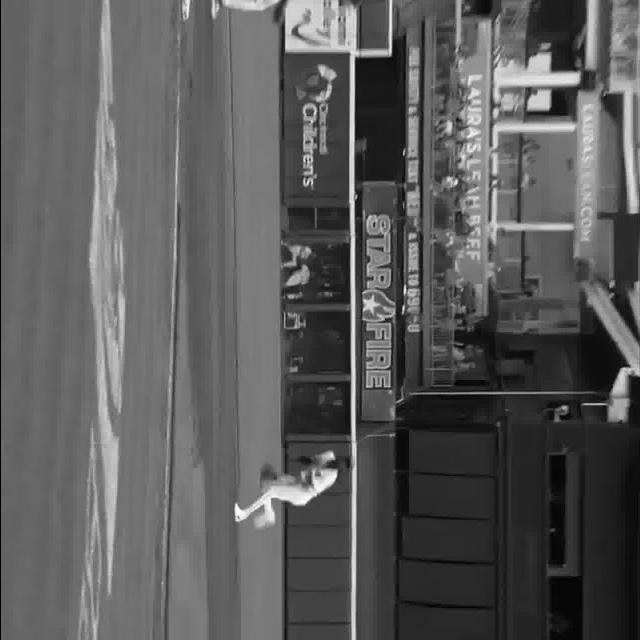base: (180, 0, 197, 31)
baseball_glove: (257, 464, 277, 480)
shoe: (247, 513, 272, 533), (228, 499, 243, 525)
